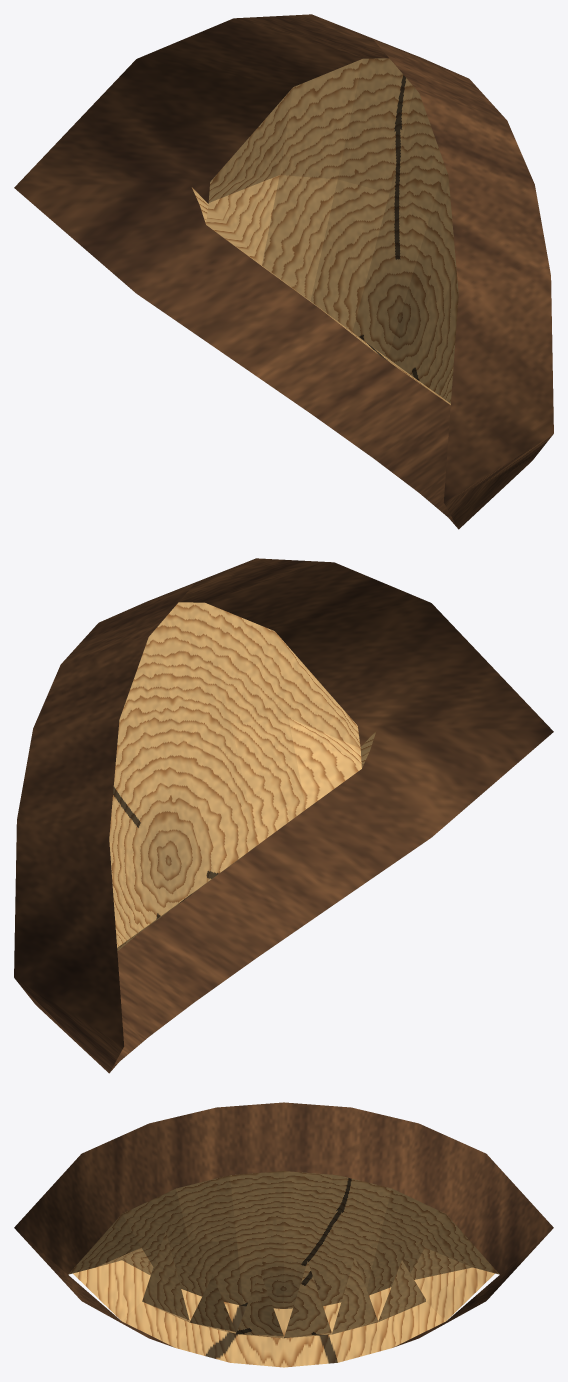
Rendered from cut_wedge_3.glb.
The picture shows the model from 3 angles, top to bottom: view 1: azimuth 30°, elevation 25°; view 2: azimuth 150°, elevation 25°; view 3: azimuth 270°, elevation 25°; orthographic projection. The views are drawn at different scales.
Parts seen in each view (by area): view 1: cut_wedge_3; view 2: cut_wedge_3; view 3: cut_wedge_3.
Boxes of the visible parts, x1,y1,x2,y2 form: cut_wedge_3: (14,14,553,529); cut_wedge_3: (14,558,553,1073); cut_wedge_3: (14,1102,553,1367).
Size of the model in its own units: 0.4362 by 0.7254 by 1.35.
2 materials, 2 textured.
